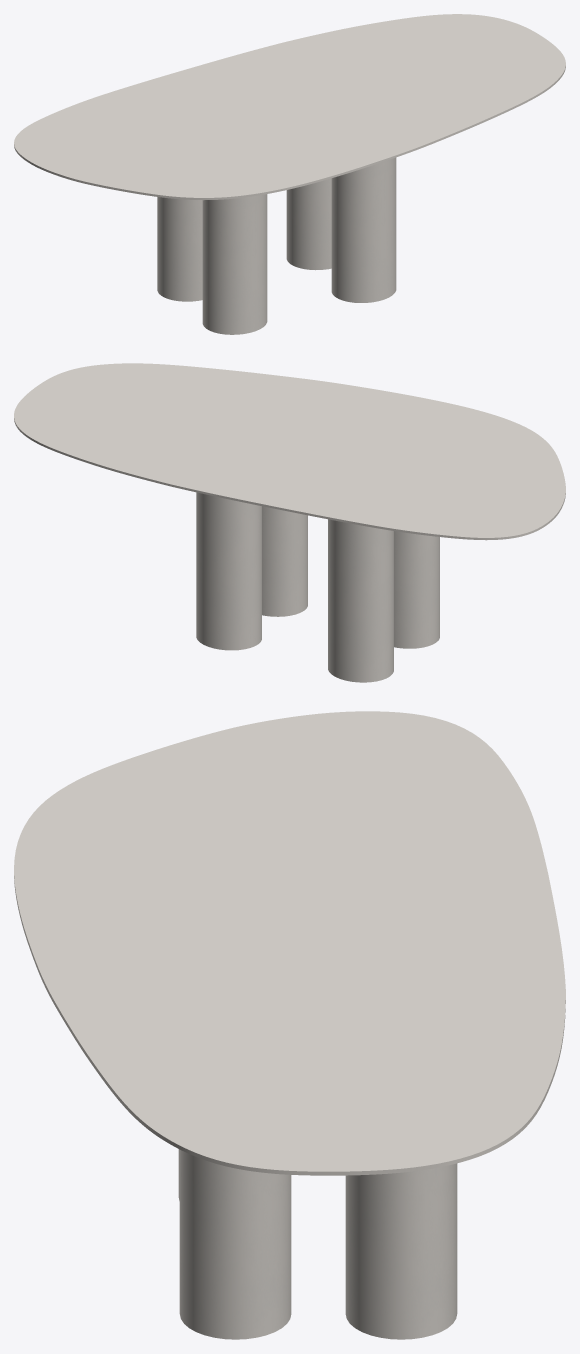
File: purewhite_leaf2_facet_grove.glb
3 views of the same model, one above another, from view 1: azimuth 30°, elevation 25°; view 2: azimuth 150°, elevation 25°; view 3: azimuth 270°, elevation 25° (orthographic). The views are drawn at different scales.
Visible parts, largest first — view 1: facet_leaf2, grove; view 2: facet_leaf2, grove; view 3: facet_leaf2, grove.
Part boxes in pixels (left/top/right/bottom): facet_leaf2: left=14, top=14, right=565, bottom=200; grove: left=157, top=157, right=396, bottom=334; facet_leaf2: left=14, top=363, right=565, bottom=540; grove: left=196, top=492, right=439, bottom=682; facet_leaf2: left=14, top=711, right=565, bottom=1175; grove: left=178, top=1149, right=457, bottom=1339.
Size of the model in its own units: 7.5 by 2.51 by 3.8.
Materials: 1 (1 with a texture image).
